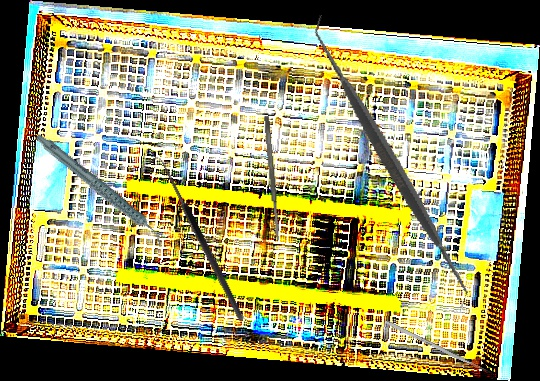Handpiece: (33, 112, 166, 268)
Hook Surgical: (147, 153, 247, 326)
Pusher: (385, 320, 494, 376)
Spatula Surgical: (242, 14, 540, 308), (263, 115, 281, 242)
